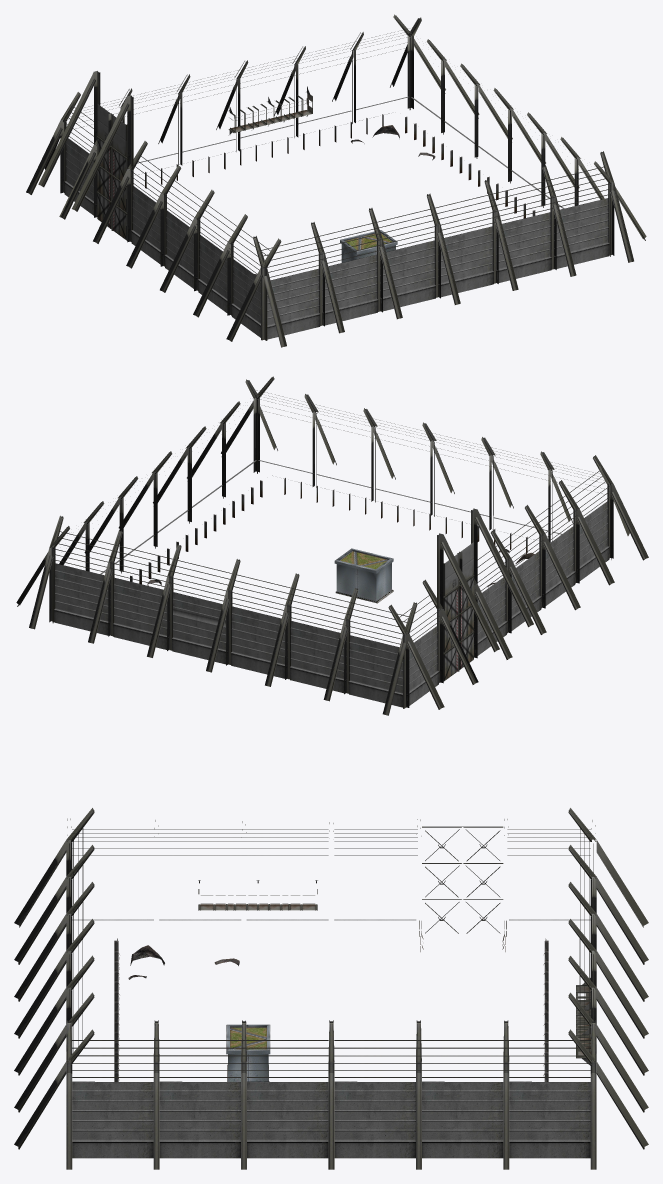
Rendered from pen.gltf.
3 renders of one model, top to bottom at view 1: azimuth 30°, elevation 25°; view 2: azimuth 150°, elevation 25°; view 3: azimuth 270°, elevation 25°, orthographic. The views are drawn at different scales.
Parts seen in each view (by area): view 1: Mesh_0031_rip1, Raised_Platform; view 2: Mesh_0031_rip1, Raised_Platform; view 3: Mesh_0031_rip1, Raised_Platform.
Part boxes in pixels (x1,y1,x2,y2): Mesh_0031_rip1: (26, 14, 646, 347); Raised_Platform: (340, 230, 397, 262); Mesh_0031_rip1: (16, 376, 648, 715); Raised_Platform: (334, 548, 393, 603); Mesh_0031_rip1: (14, 808, 648, 1169); Raised_Platform: (226, 1024, 270, 1081).
Size of the model in its own units: 82.58 by 30.38 by 78.13.
Materials: 3 (3 with a texture image).
